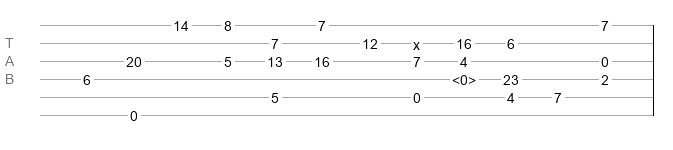0: (130, 108, 138, 118), (413, 90, 421, 100), (601, 54, 609, 64)
12: (362, 36, 378, 46)
13: (267, 54, 283, 64)
14: (173, 18, 189, 28)
16: (314, 54, 330, 64), (456, 36, 472, 46)
2: (601, 72, 609, 82)
20: (126, 54, 142, 64)
23: (503, 72, 519, 82)
4: (460, 54, 468, 64), (507, 90, 515, 100)
5: (224, 54, 232, 64), (271, 90, 279, 100)
6: (83, 72, 91, 82), (507, 36, 515, 46)
7: (271, 36, 279, 46), (318, 18, 326, 28), (413, 54, 421, 64), (554, 90, 562, 100), (601, 18, 609, 28)
8: (224, 18, 232, 28)
harmonic: (452, 72, 476, 82)
x: (413, 37, 420, 45)
